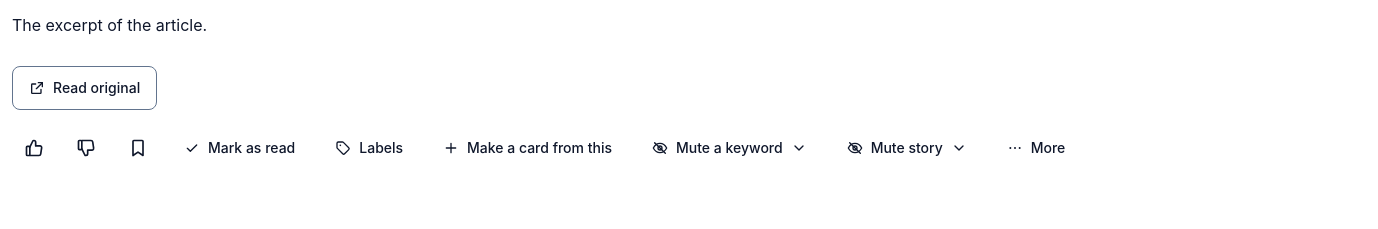
Test: a bookmark whose change is waiting to be sent › shows "Waiting to sync" and no capture status for a bookmark that was never captured
The width and height of the screenshot is (1378, 229).
Expected: the text "The excerpt of the article." is shown, [12,15,207,35]
Click the button named "Bookmark".
click(138, 148)  # box [116,126,160,170]
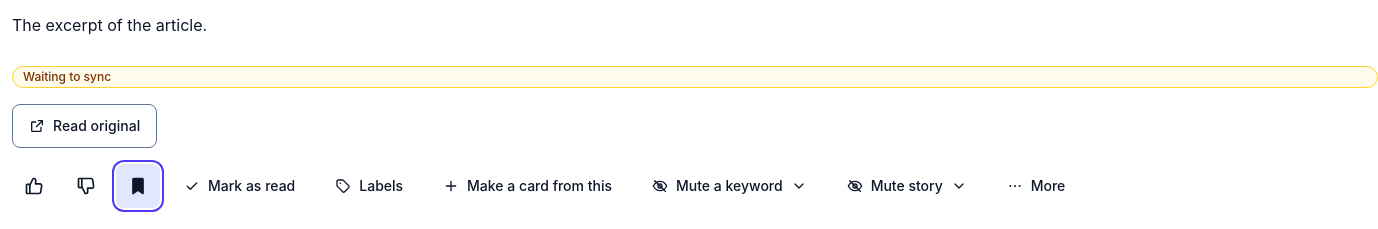
Expected: the text "Waiting to sync" is shown once, [12,66,1377,88]
